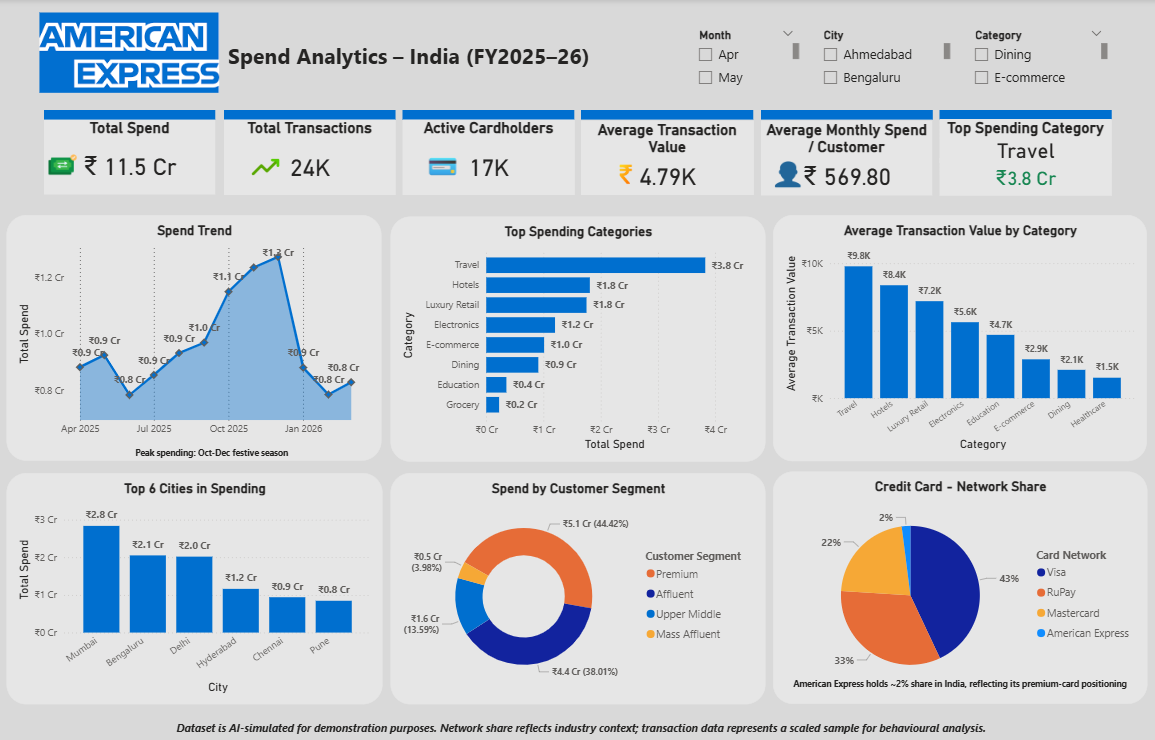

This screenshot's page, from the dashboard's own definition file:
{"tool":"powerbi","page":{"name":"Page 1","canvas":[1450,930],"ordinal":0},"visuals":[{"type":"pieChart","title":"Credit Card - Network Share","fields":{"Y":["Credit Card Network Share.Network Share %"],"Category":["Credit Card Network Share.Card Network"]},"box":[969.8,593.1,469.4,291.1],"z":0},{"type":"card","title":"Active Cardholders","fields":{"Values":["Transactions.Active AmEx Cardholders"]},"box":[506.3,150.5,215.8,95.3],"z":1000},{"type":"card","title":"Total Spend","fields":{"Values":["Transactions.Total AmEx Transaction Value (Cr)"]},"box":[56.4,151,214.7,94.6],"z":2000},{"type":"card","title":"Total Transactions","fields":{"Values":["Transactions.Total AmEx Transactions"]},"box":[281.4,150.7,215,95],"z":3000},{"type":"card","title":"Average Transaction Value","fields":{"Values":["Transactions.Average AmEx Transaction Value"]},"box":[730,151.4,216.4,93.6],"z":4000},{"type":"card","title":"Average Monthly Spend / Customer","fields":{"Values":["Transactions.Average Monthly Spend per AmEx Customer"]},"box":[955.3,151.6,214.7,94.2],"z":5000},{"type":"shape","box":[56.1,138.3,214.8,12],"z":6000},{"type":"shape","box":[281.9,138.8,215,11.9],"z":7000},{"type":"shape","box":[1178.2,139.4,215.9,12],"z":8000},{"type":"shape","box":[506.2,139.4,215.6,11.9],"z":9000},{"type":"shape","box":[730,139.5,215.9,12],"z":10000},{"type":"areaChart","title":"Spend Trend","fields":{"Y":["Transactions.AmEx Spend by (Cr)"],"Category":["Transactions.Month"]},"box":[10,270.8,470,308],"z":10000,"group":"g1"},{"type":"shape","box":[955,139.6,215.4,12.1],"z":11000},{"type":"image","box":[21.6,16.8,285.1,100.6],"z":12000},{"type":"clusteredBarChart","title":"Top Spending Categories","fields":{"Category":["Transactions.Merchant Category"],"Y":["Transactions.AmEx Spend by (Cr)"]},"box":[490,272.2,470,307.1],"z":13000},{"type":"clusteredColumnChart","title":"Top 6 Cities in Spending","fields":{"Y":["Transactions.AmEx Spend by City (Cr)"],"Category":["Transactions.City"]},"box":[8.6,594.3,471.4,290],"z":14000},{"type":"lineStackedColumnComboChart","title":"Average Transaction Value by Category","fields":{"Category":["Transactions.Merchant Category"],"Y":["Transactions.Average AmEx Transaction Value by Category"]},"box":[970,270.8,468.6,308.6],"z":15000},{"type":"textbox","box":[970,843,469,34],"z":16000},{"type":"donutChart","title":"Spend by Customer Segment","fields":{"Y":["Transactions.AmEx Spend in INR Cr"],"Category":["Customers.Customer Segment"]},"box":[490,594,470,290],"z":17000},{"type":"group","id":"g1","title":"Group 2","box":[10,270.8,470,316.8],"z":18000},{"type":"slicer","fields":{"Values":["Transactions.Month_Name"]},"box":[865.5,31.8,142.7,82.7],"z":19000},{"type":"textbox","box":[116.7,553.5,300,34.2],"z":19001,"group":"g1"},{"type":"slicer","fields":{"Values":["Transactions.Merchant Category"]},"box":[1210.9,31.8,183.6,82.7],"z":20000},{"type":"slicer","fields":{"Values":["Transactions.City"]},"box":[1021.8,31.8,176.4,82.7],"z":21000},{"type":"card","title":"Top Spending Category","fields":{"Values":["Transactions.AmEx Spend in INR Cr"]},"box":[1178.4,198.4,215.8,47.4],"z":22000},{"type":"card","title":"Top Spending Category","fields":{"Values":["Transactions.Top Merchant Category"]},"box":[1178.4,151.1,215.8,54.7],"z":23000},{"type":"image","box":[509.3,185,92.9,40],"z":24000},{"type":"image","box":[62.3,190.5,35.5,35.5],"z":25000},{"type":"image","box":[738.3,205.8,93.3,29.2],"z":26000},{"type":"image","box":[966.7,202.5,44.2,34.2],"z":27000},{"type":"image","box":[312.1,190.7,44.3,41.4],"z":28000},{"type":"textbox","box":[282,47.3,493.1,67.3],"z":29000},{"type":"textbox","box":[20.9,899.3,1418,31.4],"z":30000}]}

Visuals, with their boxes in screenshot pixels (x1, y1, x2, y2), scaled from the page's 1450x930 canvas onto the 1155x740 screenshot:
"Credit Card - Network Share" pieChart: {"x1": 772, "y1": 472, "x2": 1146, "y2": 704}
"Active Cardholders" card: {"x1": 403, "y1": 120, "x2": 575, "y2": 196}
"Total Spend" card: {"x1": 45, "y1": 120, "x2": 216, "y2": 195}
"Total Transactions" card: {"x1": 224, "y1": 120, "x2": 395, "y2": 196}
"Average Transaction Value" card: {"x1": 581, "y1": 120, "x2": 754, "y2": 195}
"Average Monthly Spend / Customer" card: {"x1": 761, "y1": 121, "x2": 932, "y2": 196}
shape: {"x1": 45, "y1": 110, "x2": 216, "y2": 120}
shape: {"x1": 225, "y1": 110, "x2": 396, "y2": 120}
shape: {"x1": 938, "y1": 111, "x2": 1110, "y2": 120}
shape: {"x1": 403, "y1": 111, "x2": 575, "y2": 120}
shape: {"x1": 581, "y1": 111, "x2": 753, "y2": 121}
"Spend Trend" areaChart: {"x1": 8, "y1": 215, "x2": 382, "y2": 461}
shape: {"x1": 761, "y1": 111, "x2": 932, "y2": 121}
image: {"x1": 17, "y1": 13, "x2": 244, "y2": 93}
"Top Spending Categories" clusteredBarChart: {"x1": 390, "y1": 217, "x2": 765, "y2": 461}
"Top 6 Cities in Spending" clusteredColumnChart: {"x1": 7, "y1": 473, "x2": 382, "y2": 704}
"Average Transaction Value by Category" lineStackedColumnComboChart: {"x1": 773, "y1": 215, "x2": 1146, "y2": 461}
textbox: {"x1": 773, "y1": 671, "x2": 1146, "y2": 698}
"Spend by Customer Segment" donutChart: {"x1": 390, "y1": 473, "x2": 765, "y2": 703}
"Group 2" group: {"x1": 8, "y1": 215, "x2": 382, "y2": 468}
slicer - Transactions.Month_Name: {"x1": 689, "y1": 25, "x2": 803, "y2": 91}
textbox: {"x1": 93, "y1": 440, "x2": 332, "y2": 468}
slicer - Transactions.Merchant Category: {"x1": 965, "y1": 25, "x2": 1111, "y2": 91}
slicer - Transactions.City: {"x1": 814, "y1": 25, "x2": 954, "y2": 91}
"Top Spending Category" card: {"x1": 939, "y1": 158, "x2": 1111, "y2": 196}
"Top Spending Category" card: {"x1": 939, "y1": 120, "x2": 1111, "y2": 164}
image: {"x1": 406, "y1": 147, "x2": 480, "y2": 179}
image: {"x1": 50, "y1": 152, "x2": 78, "y2": 180}
image: {"x1": 588, "y1": 164, "x2": 662, "y2": 187}
image: {"x1": 770, "y1": 161, "x2": 805, "y2": 188}
image: {"x1": 249, "y1": 152, "x2": 284, "y2": 185}
textbox: {"x1": 225, "y1": 38, "x2": 617, "y2": 91}
textbox: {"x1": 17, "y1": 716, "x2": 1146, "y2": 739}
